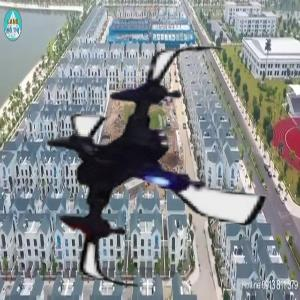drone: (29, 36, 292, 299)
